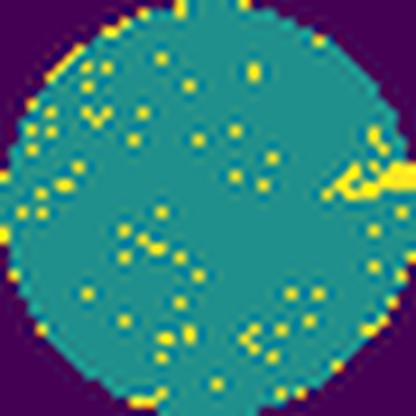Loc: (320, 155, 416, 202)
